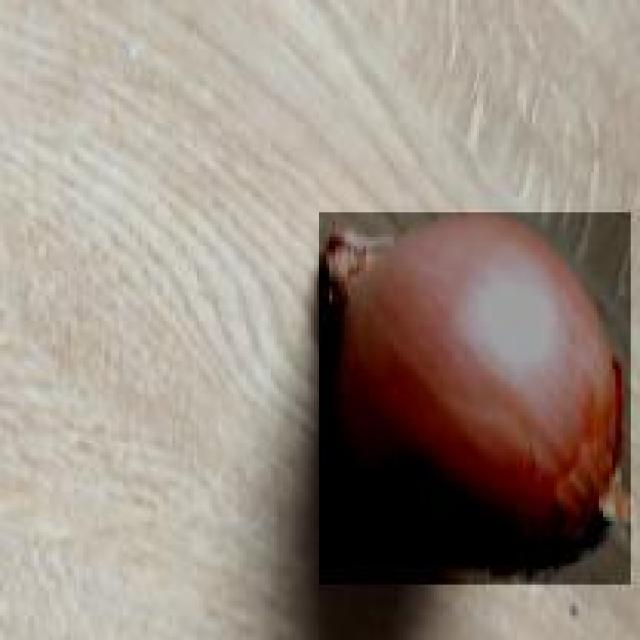onion: (320, 208, 634, 586)
